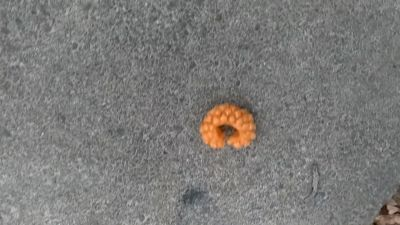eggs: (199, 102, 260, 151)
